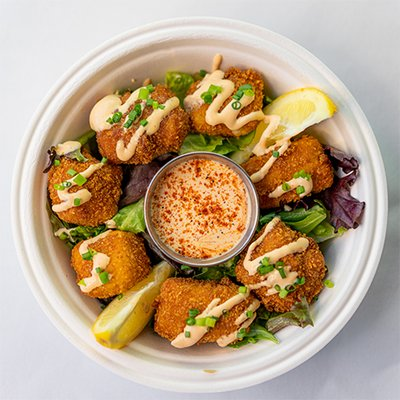soup: (236, 216, 328, 314), (252, 135, 335, 212), (70, 229, 152, 303)
sushi: (143, 151, 260, 273)
